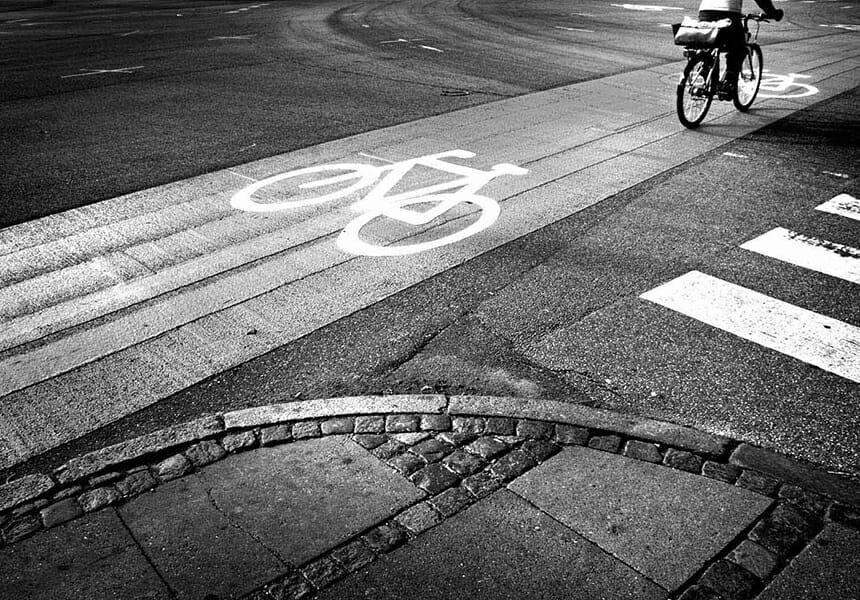Bicycle: (668, 14, 782, 119)
